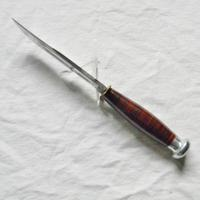knife: (7, 13, 185, 145)
